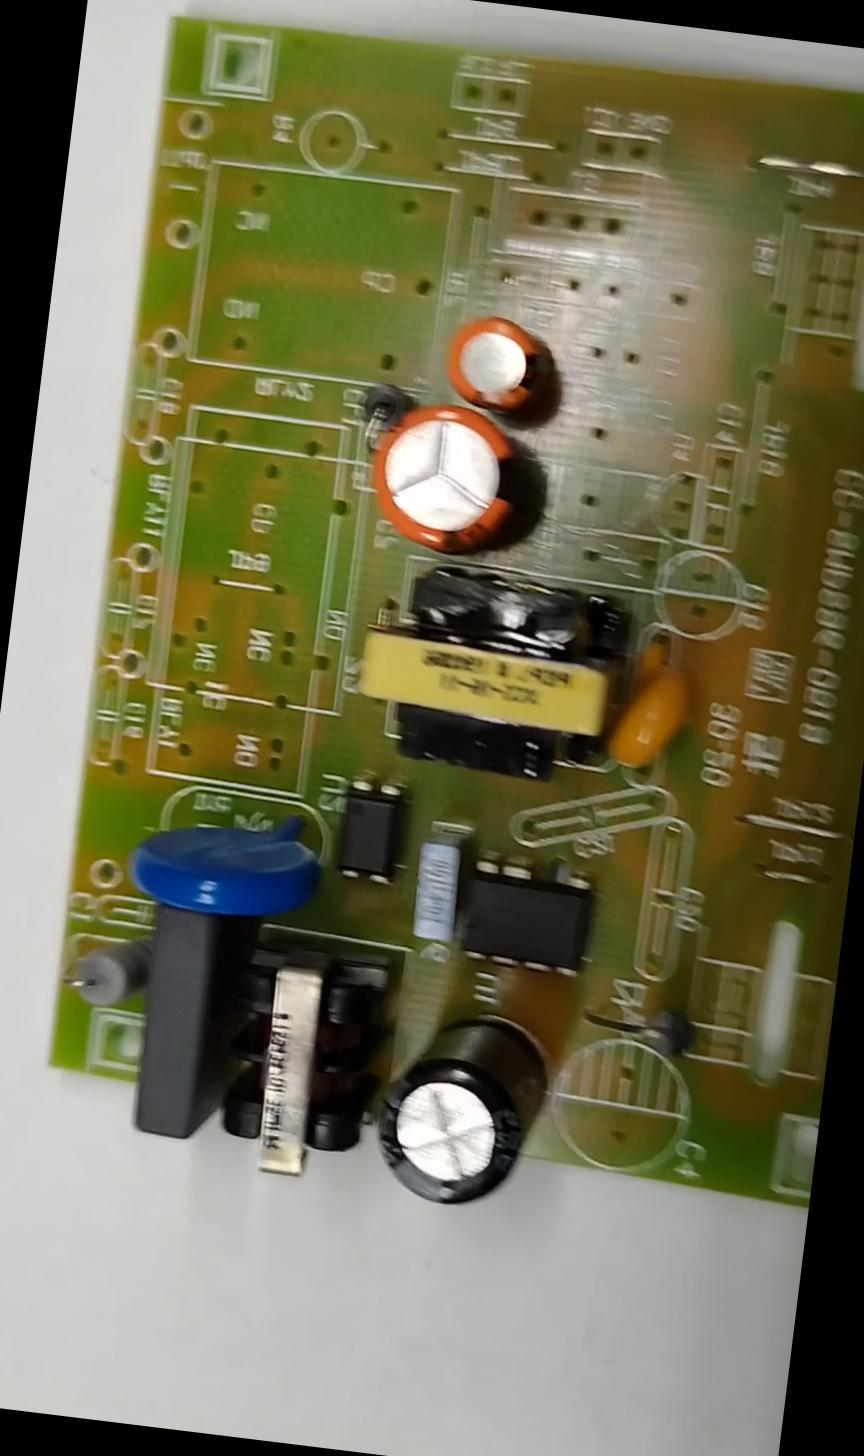Cap1: (368, 396, 521, 545)
Cap2: (447, 316, 537, 402)
Cap3: (368, 1007, 548, 1214)
MOSFET: (463, 858, 593, 975)
Mov: (123, 813, 323, 925)
Resistor: (56, 938, 144, 1009)
Transformer: (356, 576, 623, 782), (215, 968, 381, 1182)
